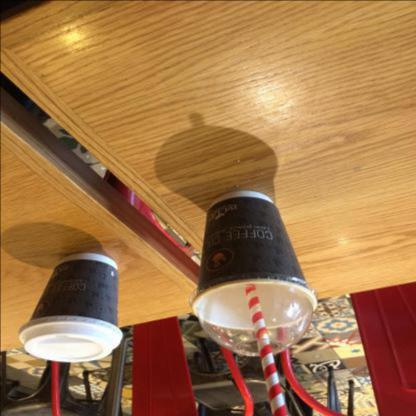Cup: (192, 190, 317, 329), (29, 253, 118, 327)
Lid: (189, 273, 318, 356), (17, 316, 122, 362)
Straw: (243, 284, 288, 416)
